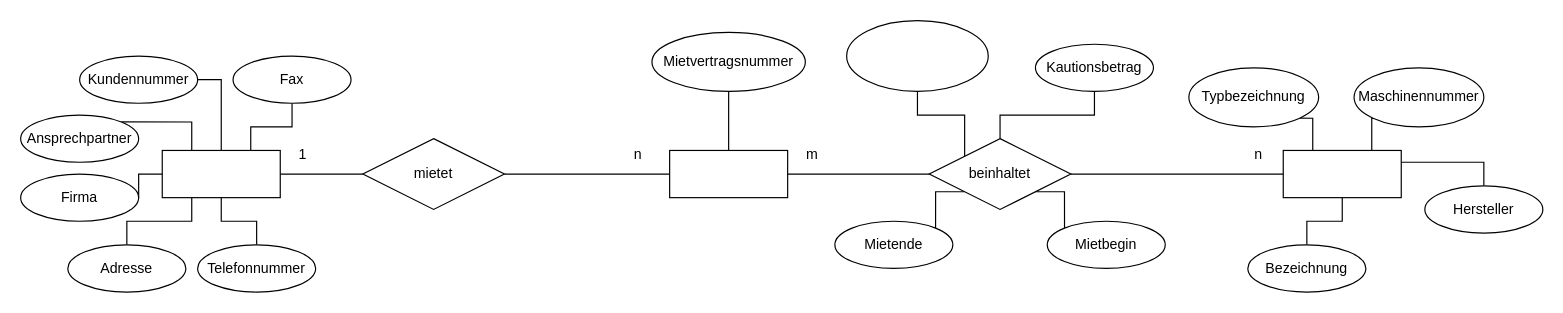
Some shapes in this 1563 by 313 pixel diagram are drawn without their labels. The box of each missing label's shape, as (x1, y1, x2, y2) in pixels:
Baumaschine: (1282, 149, 1401, 198)
Kunde: (161, 149, 280, 198)
Maschinenbruch- versichrung: (845, 19, 988, 91)
Mietvertrag: (668, 149, 788, 198)
